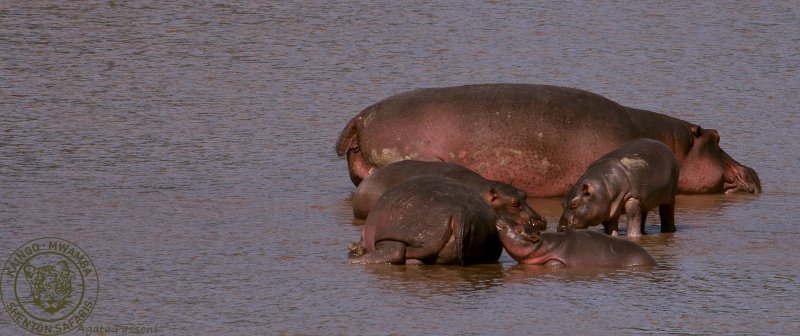hipopotamo: (333, 80, 770, 207), (365, 181, 506, 278), (356, 167, 552, 235), (556, 138, 684, 236), (494, 215, 669, 280)
